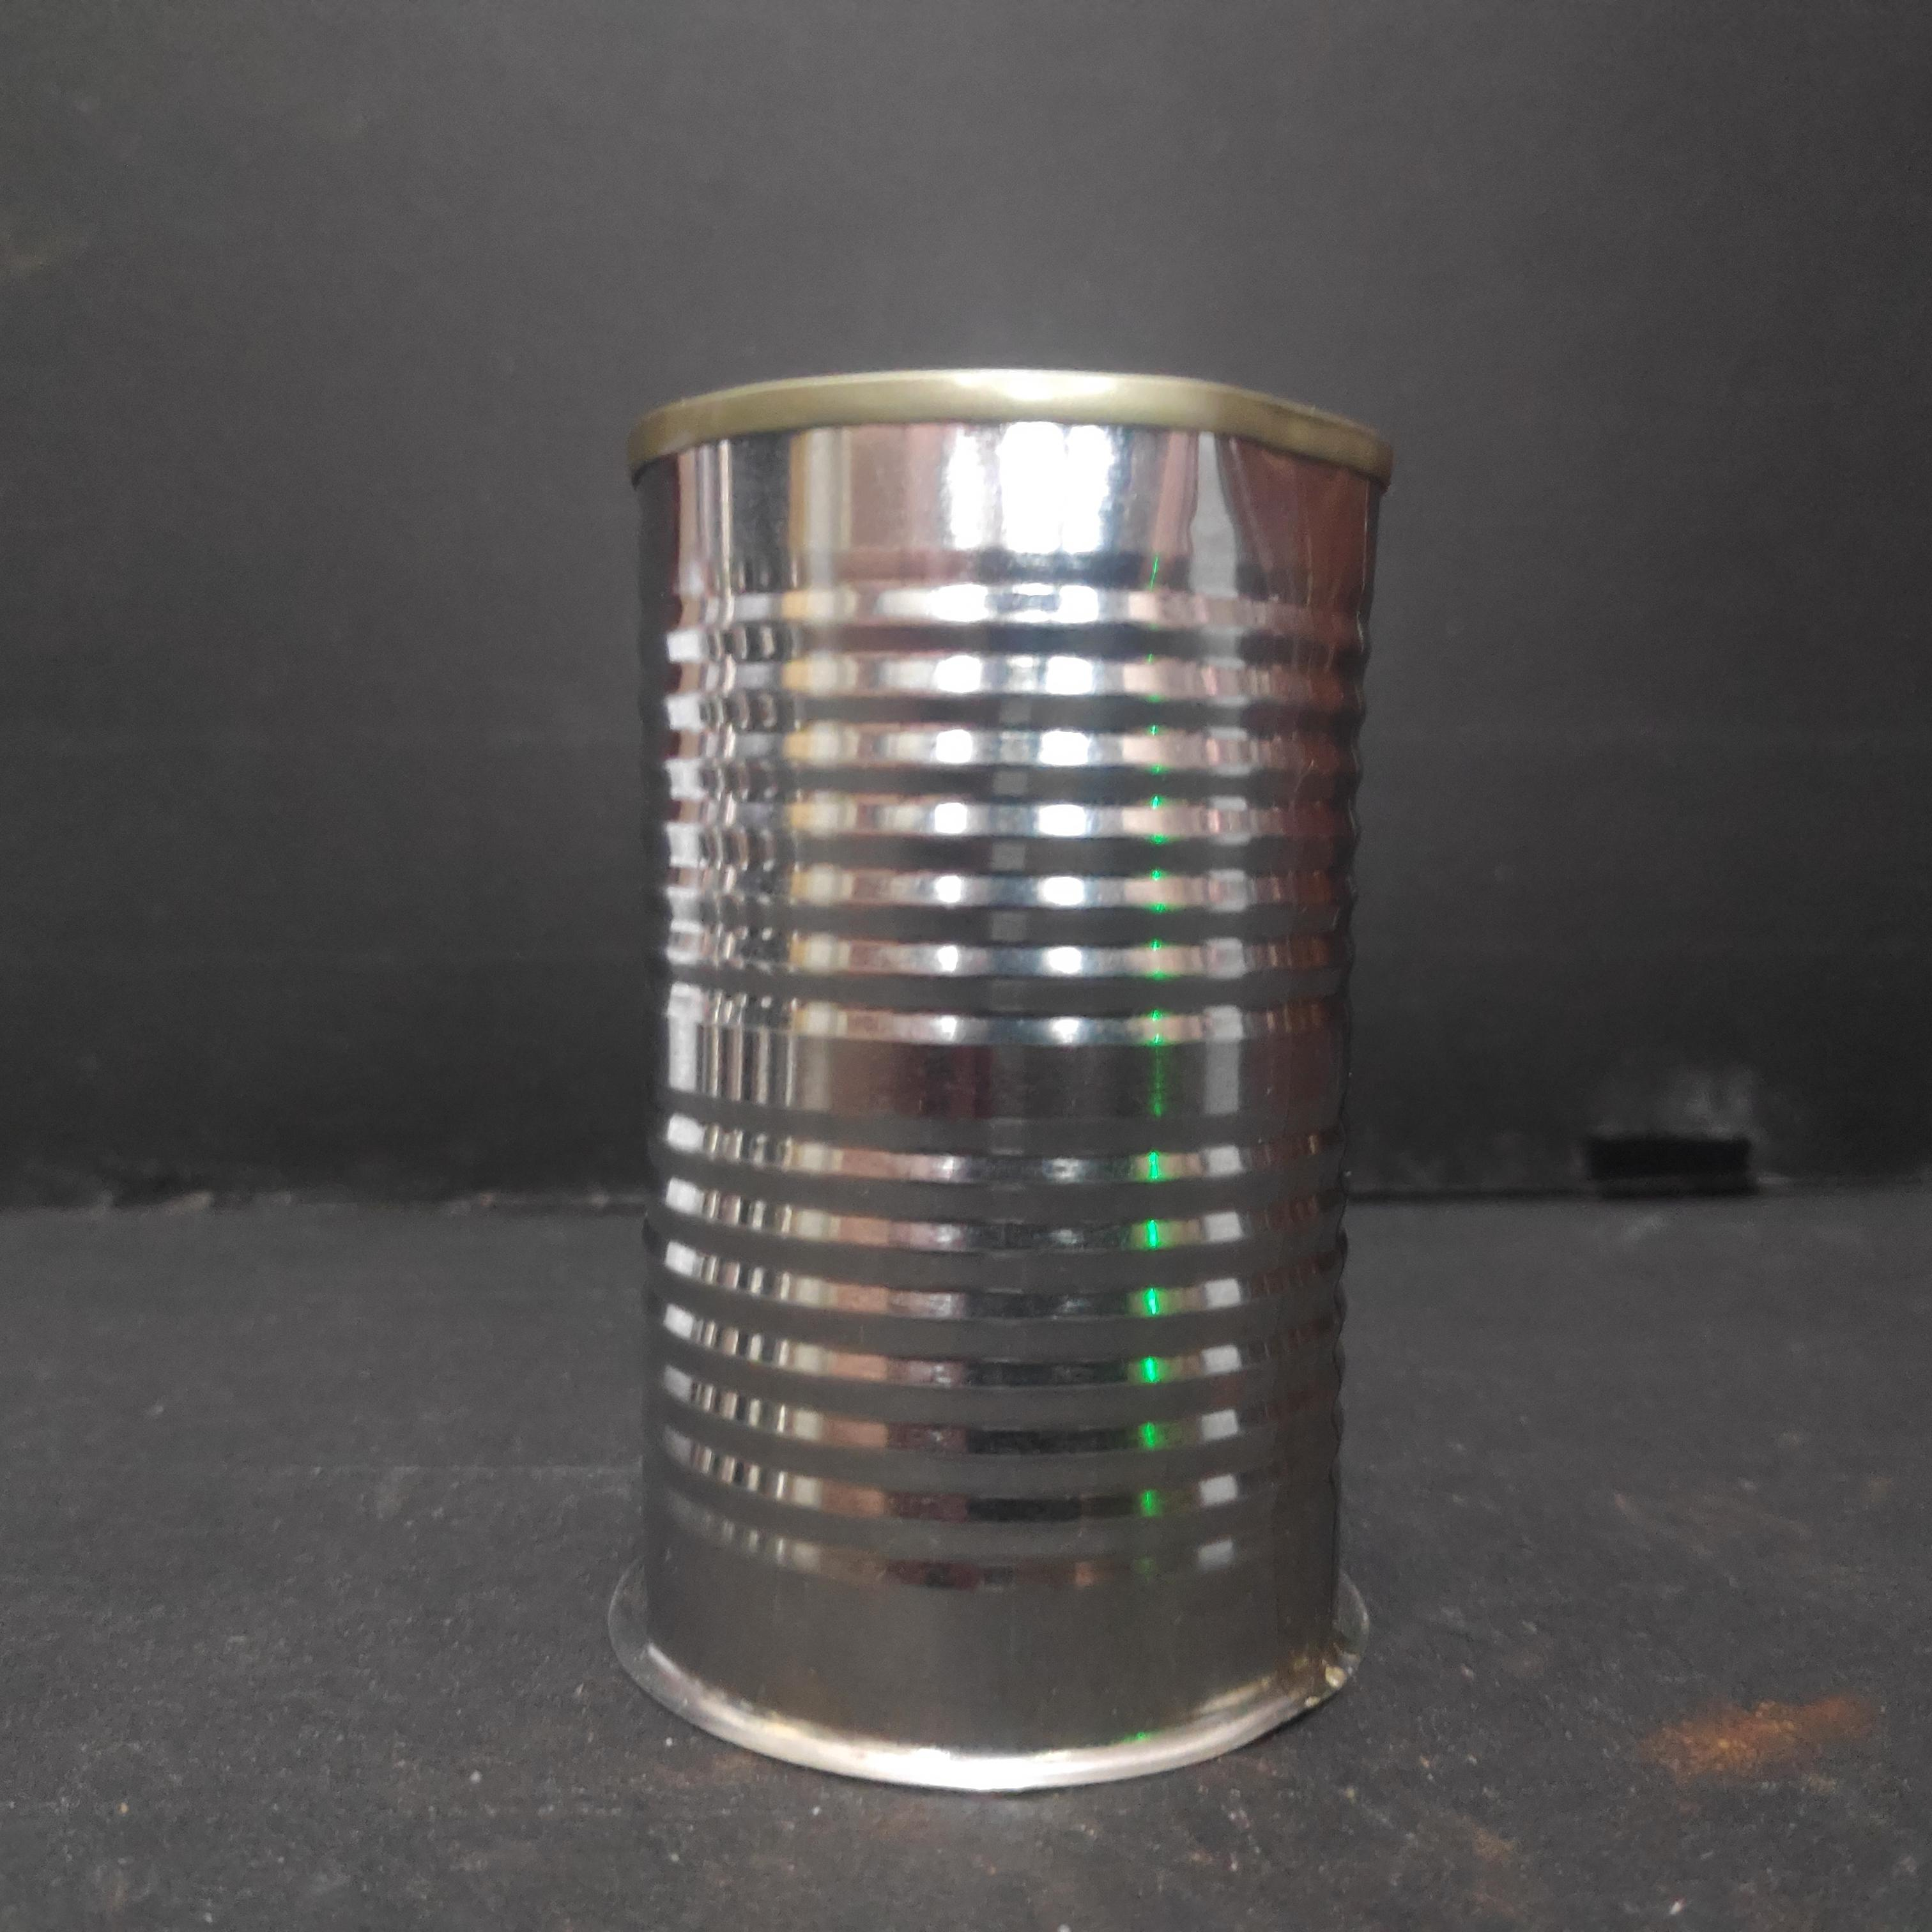Minor Defect: (618, 358, 1402, 1800)
